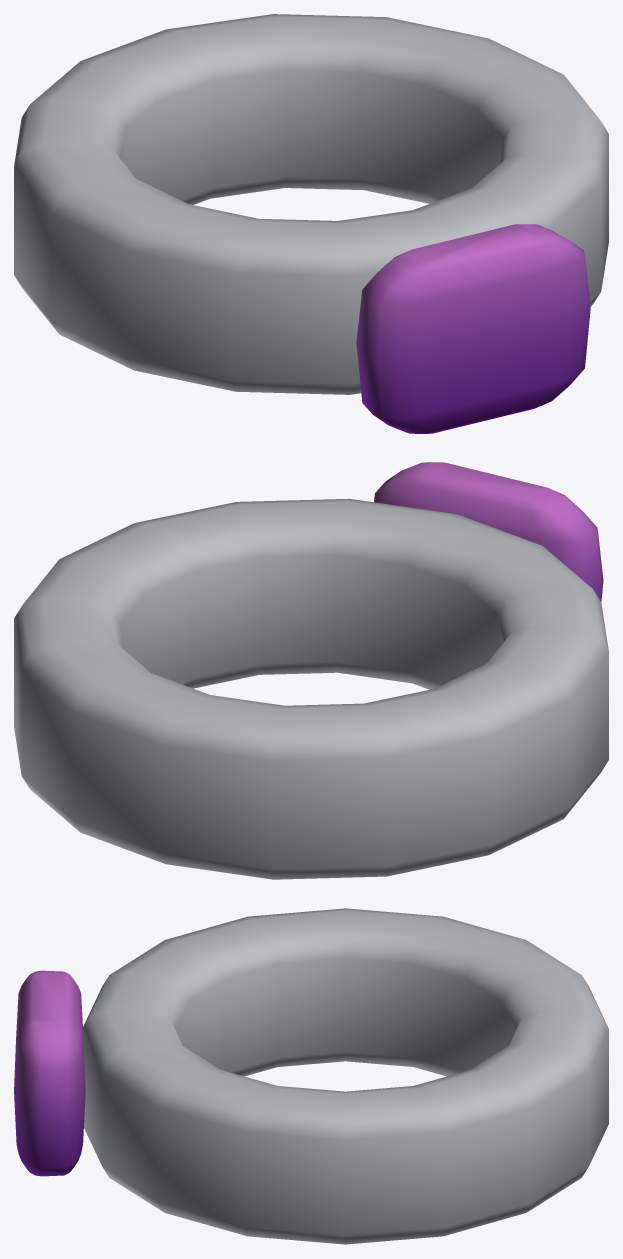
Rendered from Ring.fbx.
3 renders of one model, top to bottom at view 1: azimuth 30°, elevation 25°; view 2: azimuth 150°, elevation 25°; view 3: azimuth 270°, elevation 25°, orthographic. The views are drawn at different scales.
Parts seen in each view (by area): view 1: Circle.004, Cylinder.002; view 2: Circle.004, Cylinder.002; view 3: Circle.004, Cylinder.002.
Boxes of the visible parts, box(x1,y1,x2,y2) form: Circle.004: box(14, 14, 608, 394); Cylinder.002: box(356, 224, 590, 433); Circle.004: box(14, 498, 608, 879); Cylinder.002: box(374, 462, 603, 601); Circle.004: box(82, 908, 608, 1244); Cylinder.002: box(14, 970, 85, 1176).
Bounding box in the file's own units: 138 × 43.01 × 155.
